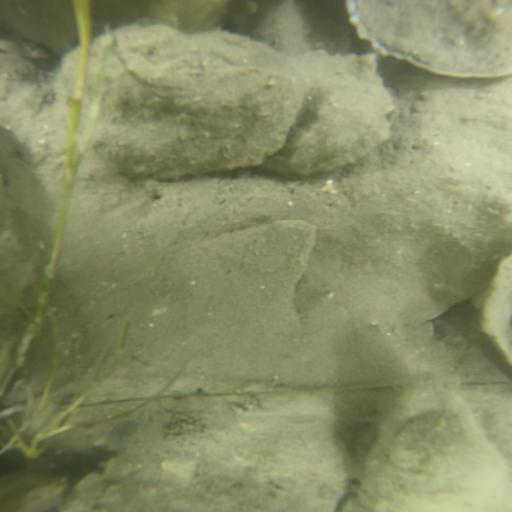Oyster-Closed: (49, 28, 303, 180), (272, 48, 392, 174), (485, 256, 511, 361)
Oyster-Open: (344, 389, 512, 512)
